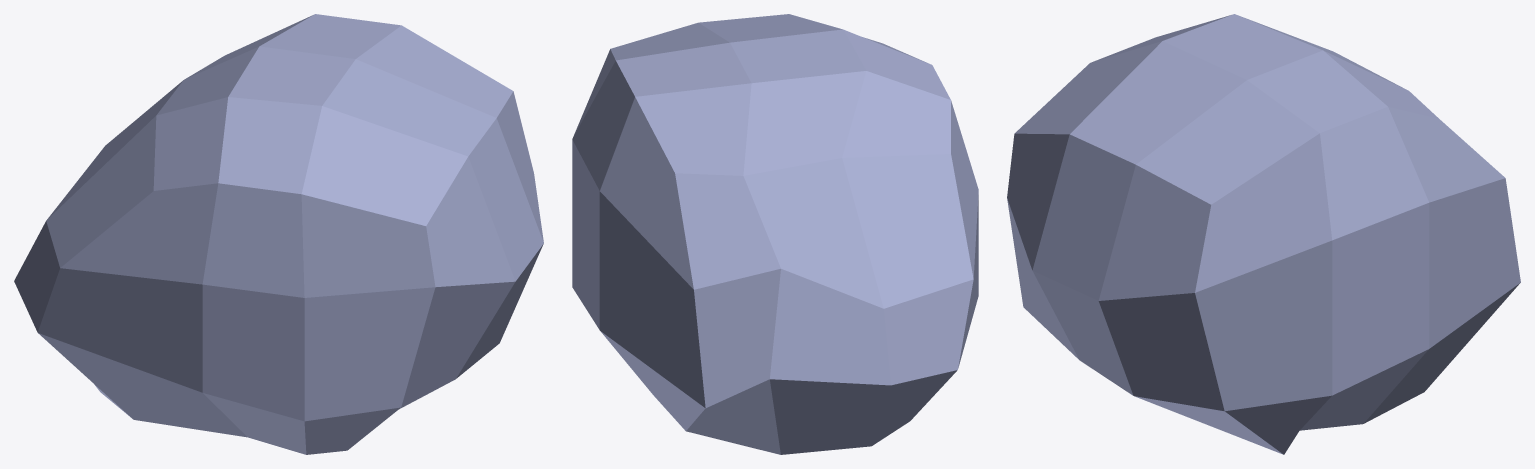
File: Stone_4.fbx
3 views of the same model, side by side, from view 1: azimuth 30°, elevation 25°; view 2: azimuth 150°, elevation 25°; view 3: azimuth 270°, elevation 25° (orthographic). The views are drawn at different scales.
Visible parts, largest first — view 1: Cube.024; view 2: Cube.024; view 3: Cube.024.
Boxes of the visible parts, <box> form: Cube.024: <box>14,14,543,454</box>; Cube.024: <box>572,14,978,454</box>; Cube.024: <box>1007,14,1520,454</box>.
Size of the model in its own units: 25.49 by 18.57 by 25.83.
